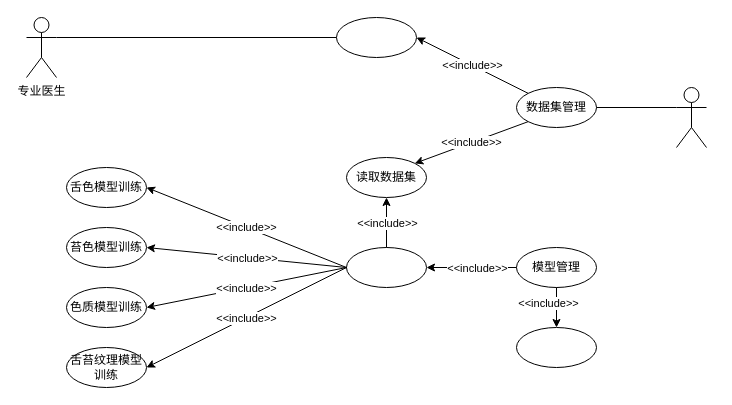
This 732x405 diagram has some shape labels left out. Here are the shapes that lost their labels. From the top down, the centre of each, then its label:
At pixel 376 37: "存入数据集".
At pixel 691 117: "后台人员".
At pixel 386 267: "模型训练".
At pixel 556 347: "舌象分析".
